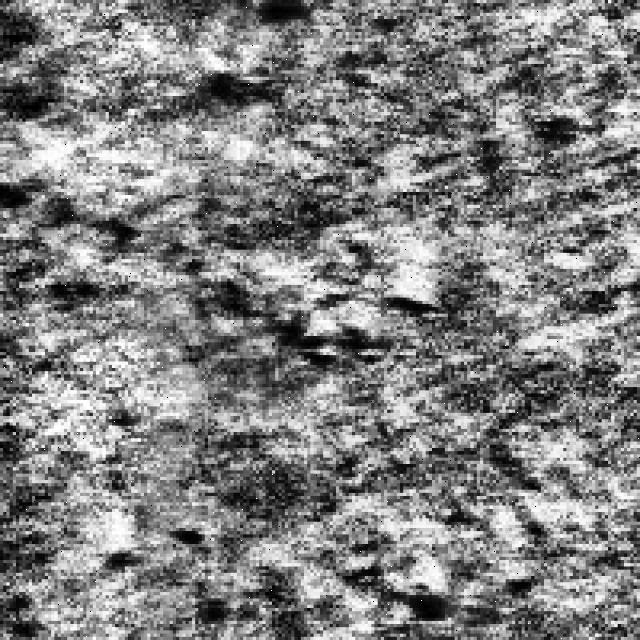Crazing: (180, 221, 438, 387), (378, 487, 570, 618)
